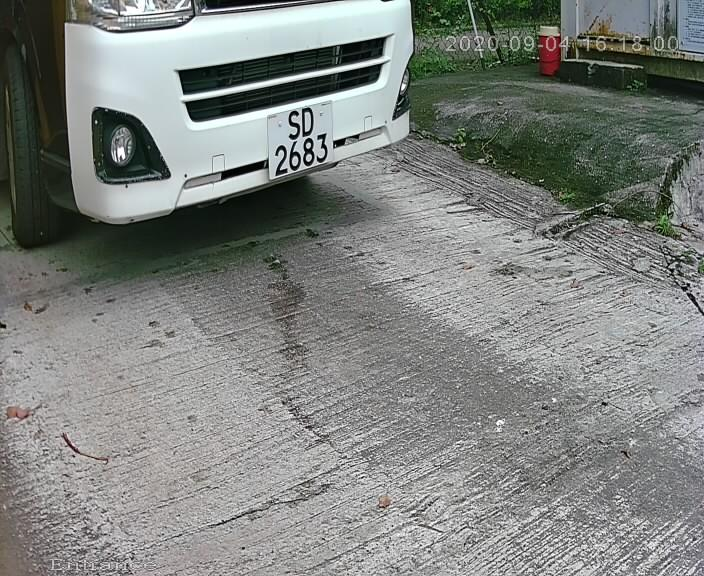Car: (29, 13, 437, 268)
License Plate: (255, 96, 349, 183)
